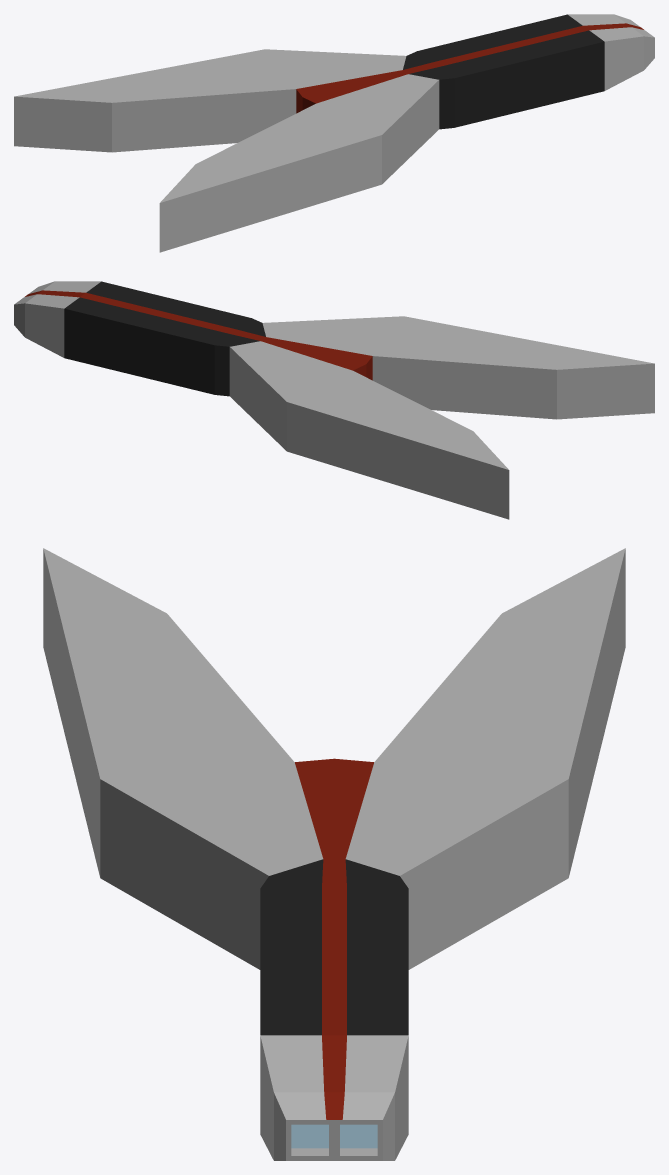
File: Ship2.fbx
3 views of the same model, one above another, from view 1: azimuth 30°, elevation 25°; view 2: azimuth 150°, elevation 25°; view 3: azimuth 270°, elevation 25° (orthographic). The views are drawn at different scales.
Parts seen in each view (by area): view 1: Cube; view 2: Cube; view 3: Cube.
Boxes of the visible parts, <box> form: Cube: <box>14,14,654,252</box>; Cube: <box>14,281,654,519</box>; Cube: <box>43,548,625,1160</box>.
Bounding box in the file's own units: 819 × 69.86 × 372.
